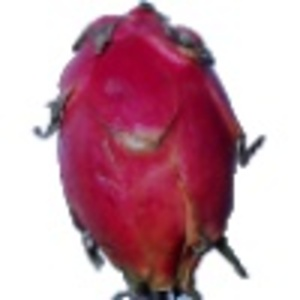pitaia: (33, 1, 266, 300)
